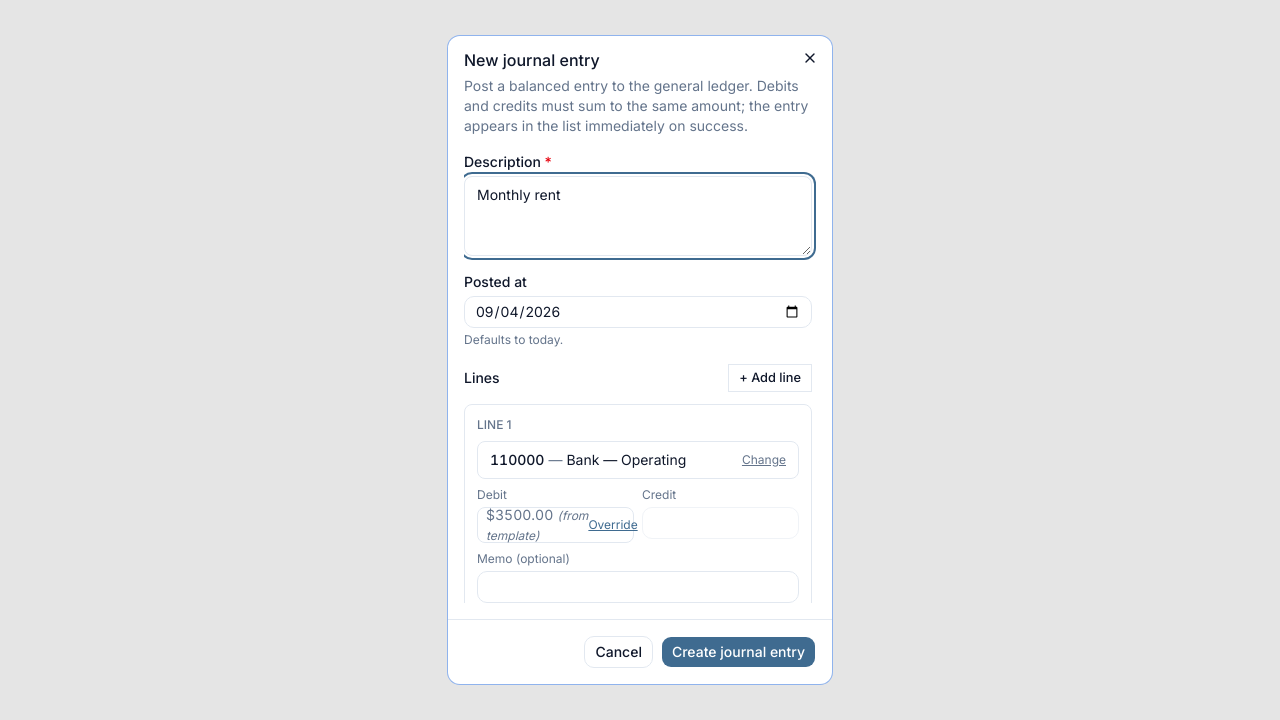
Scenario: NewJournalEntryDialog — M29.2 variable-amount UI › M29 — clicking Override transitions a locked line to editable input
Expected: the element with test id "je-line-0-debit-chip" is shown, [477, 507, 634, 543]
Note: Click Override on the line 0 debit chip.
Click the button with test id "je-line-0-debit-override". click: (613,525)
box: [588, 517, 638, 533]
(page scrolled)
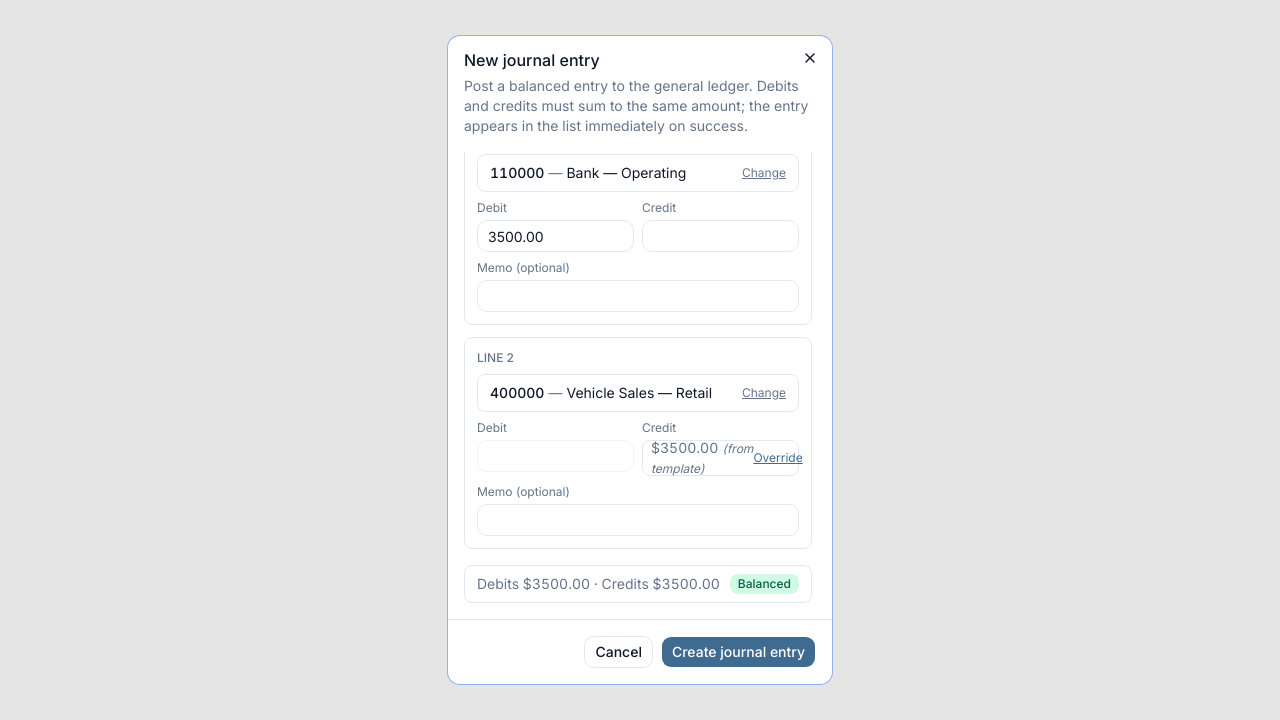
Expected: the element with test id "je-line-1-credit-chip" is shown, [642, 440, 799, 476]
Now the element with test id "je-line-0-debit-chip" is gone
Now the number field named "Line 1 debit" is shown, box [477, 220, 634, 252]
